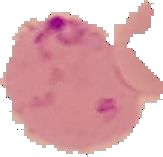parasitized: (24, 14, 100, 69), (89, 93, 133, 146)
